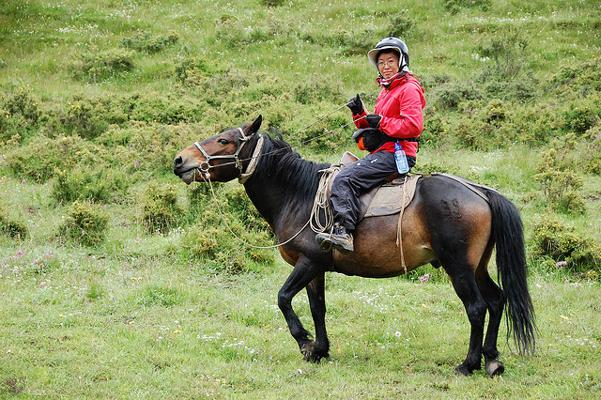person: (315, 38, 427, 254)
